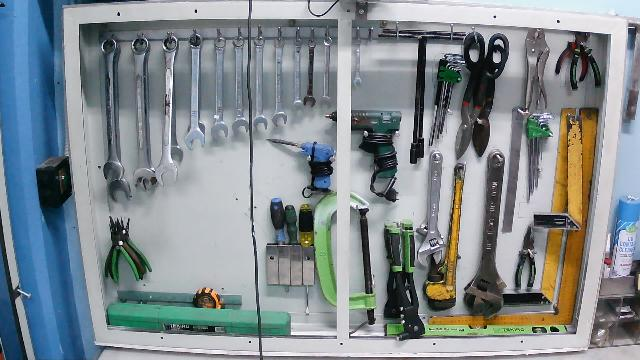tang_rivet: (383, 222, 428, 343)
